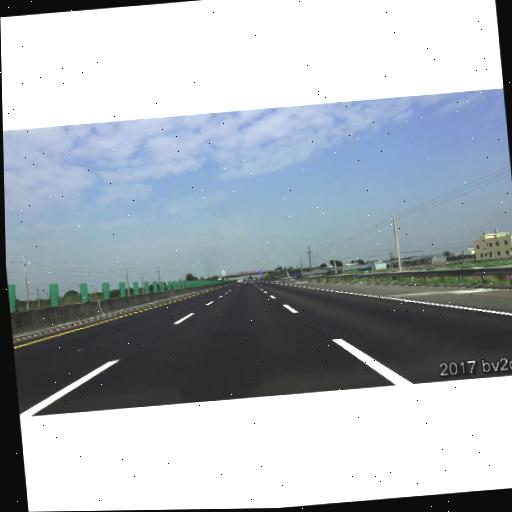Car: (237, 279, 241, 283), (253, 277, 256, 280)
